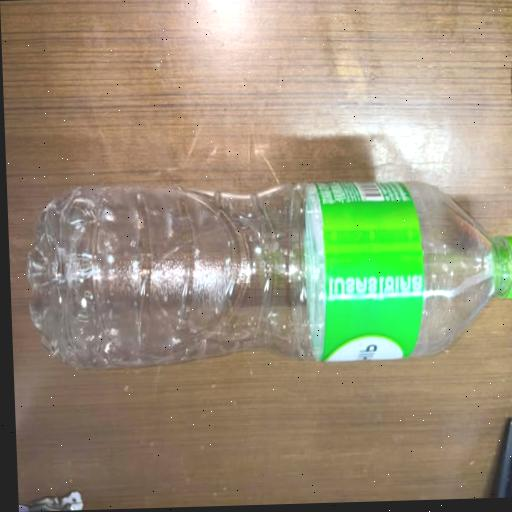bottle: (10, 159, 512, 389)
